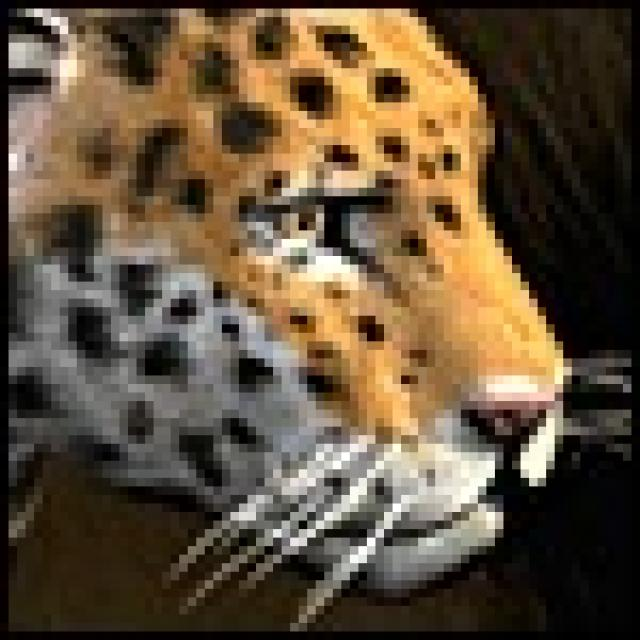Leopard: (0, 0, 580, 580)
